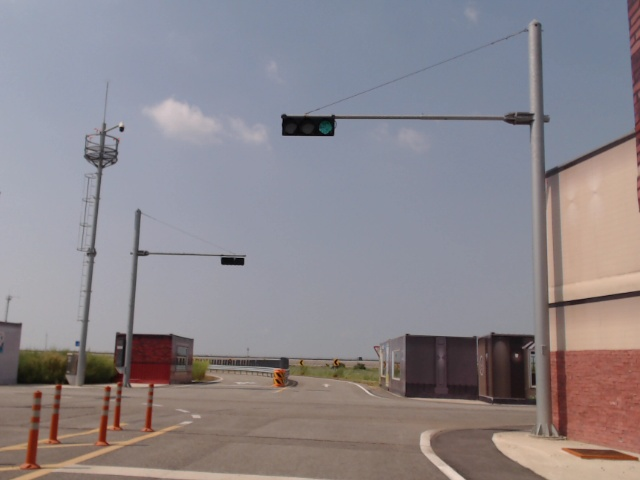green_3: (281, 116, 335, 137)
